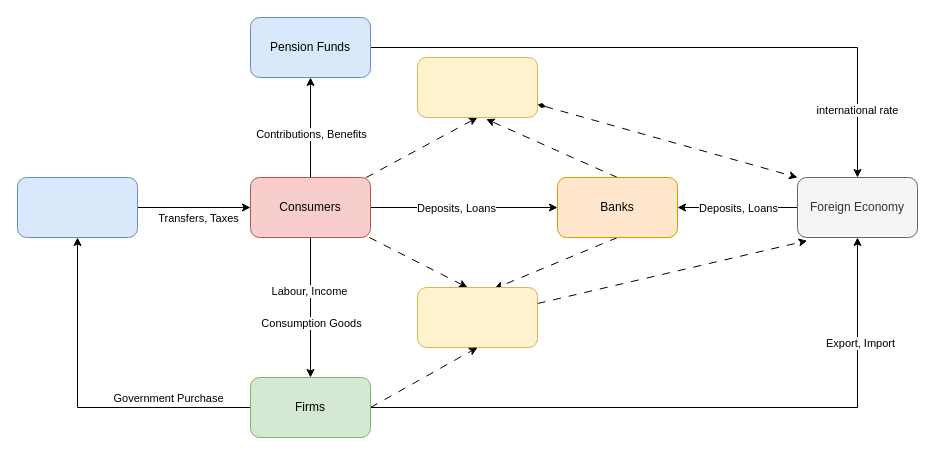
The diagram is 935 pixels wide and 455 high, and some of its shapes have lost their labels. Here are the shapes that lost their labels. From the top down, the centre of each, then its label:
At point 477,87: "Housing Market".
At point 77,207: "Government".
At point 477,317: "Credit Market".
